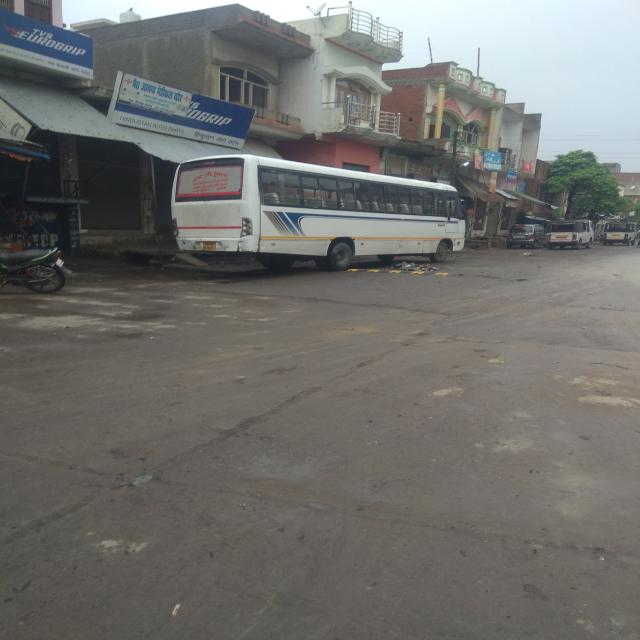Bus: (182, 147, 474, 259)
